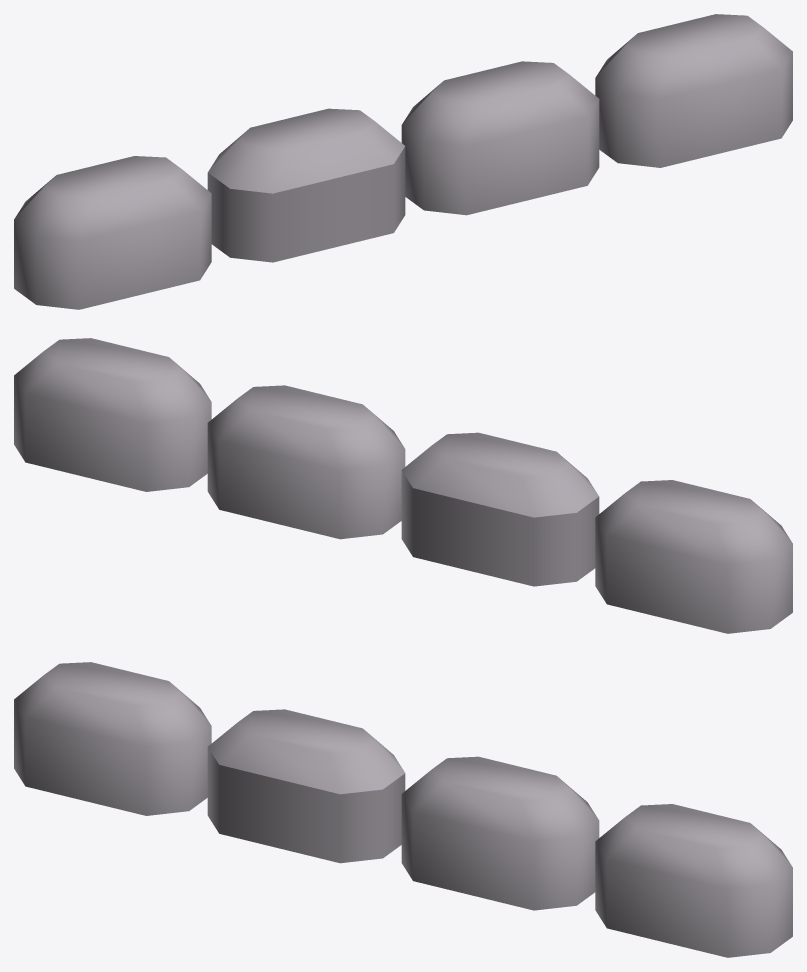
Rendered from path_edge.glb.
3 views of the same model, one above another, from view 1: azimuth 30°, elevation 25°; view 2: azimuth 150°, elevation 25°; view 3: azimuth 330°, elevation 25° (orthographic).
Visible parts, largest first — view 1: path_edge; view 2: path_edge; view 3: path_edge.
Boxes of the visible parts, x1,y1,x2,y2 form: path_edge: (14,14,792,309); path_edge: (14,338,792,633); path_edge: (14,662,792,957).
Size of the model in its own units: 0.976 by 0.12 by 0.12.
1 material, 1 textured.
